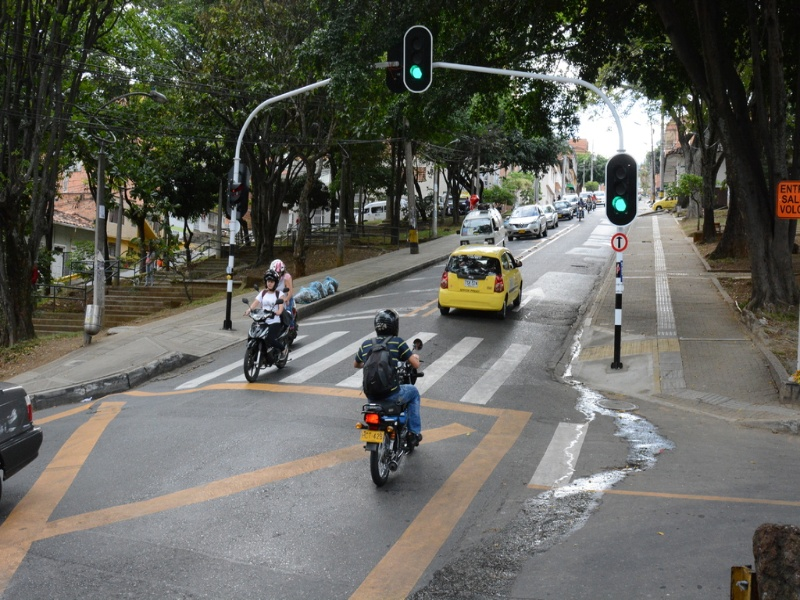green_light: (387, 17, 439, 111), (599, 158, 644, 222)
